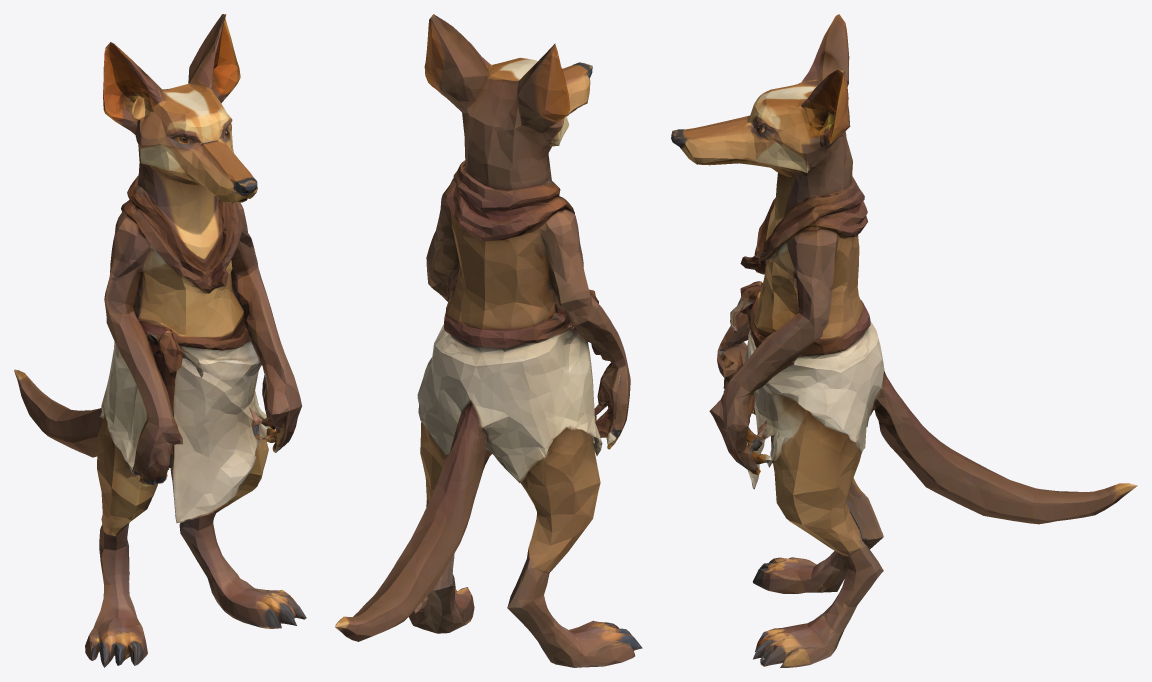
Rendered from LowPolyLoinclothDog.fbx.
The picture shows the model from 3 angles, left to right: view 1: azimuth 30°, elevation 25°; view 2: azimuth 150°, elevation 25°; view 3: azimuth 270°, elevation 25°; orthographic projection. The views are drawn at different scales.
Visible parts, largest first — view 1: temp; view 2: temp; view 3: temp.
Part boxes in pixels (<box>): temp: <box>14,14,306,667</box>; temp: <box>335,14,642,667</box>; temp: <box>671,14,1137,667</box>.
Size of the model in its own units: 74.01 by 200 by 146.
1 material, 1 textured.
